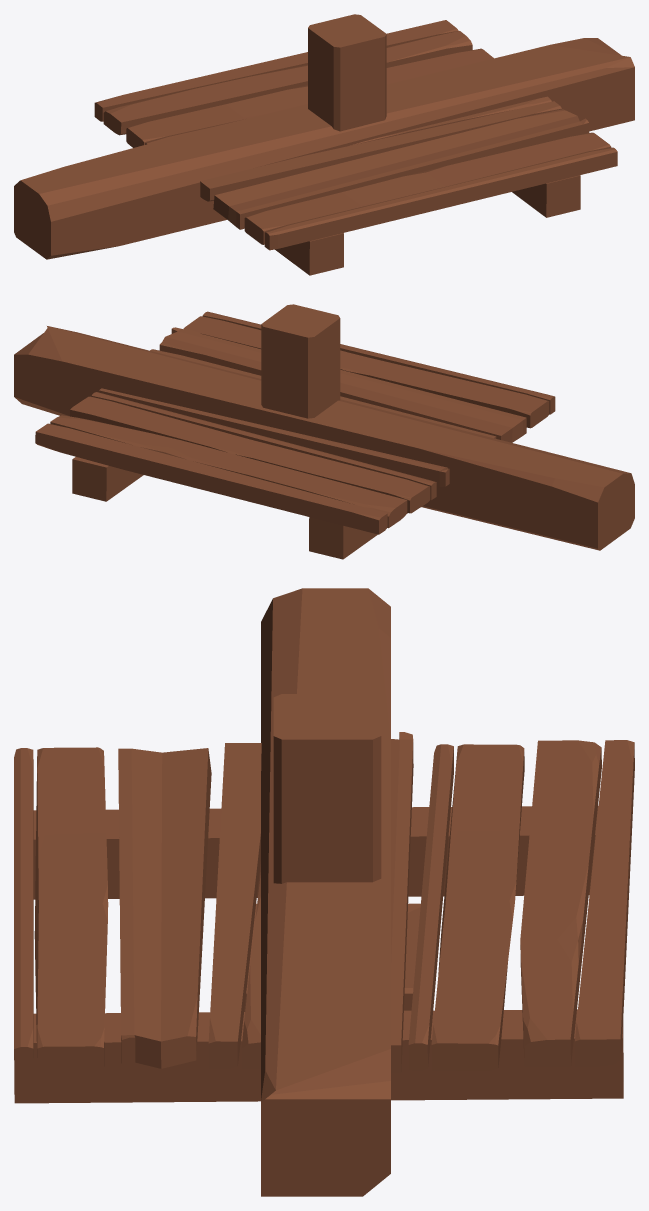
Rendered from mat_wood.fbx.
3 renders of one model, top to bottom at view 1: azimuth 30°, elevation 25°; view 2: azimuth 150°, elevation 25°; view 3: azimuth 270°, elevation 25°, orthographic. The views are drawn at different scales.
Visible parts, largest first — view 1: Wood_pallet, Wood_Beam, Wood_TBase; view 2: Wood_pallet, Wood_Beam, Wood_TBase; view 3: Wood_pallet, Wood_Beam, Wood_TBase.
Boxes of the visible parts, bbox=[...] form: Wood_pallet: bbox=[94, 20, 617, 275]; Wood_Beam: bbox=[14, 38, 634, 259]; Wood_TBase: bbox=[308, 14, 386, 131]; Wood_pallet: bbox=[35, 311, 555, 559]; Wood_Beam: bbox=[14, 326, 634, 550]; Wood_TBase: bbox=[261, 304, 340, 418]; Wood_pallet: bbox=[14, 732, 634, 1103]; Wood_Beam: bbox=[261, 588, 390, 1196]; Wood_TBase: bbox=[244, 694, 420, 1011].
Size of the model in its own units: 1104 by 276 by 577.
